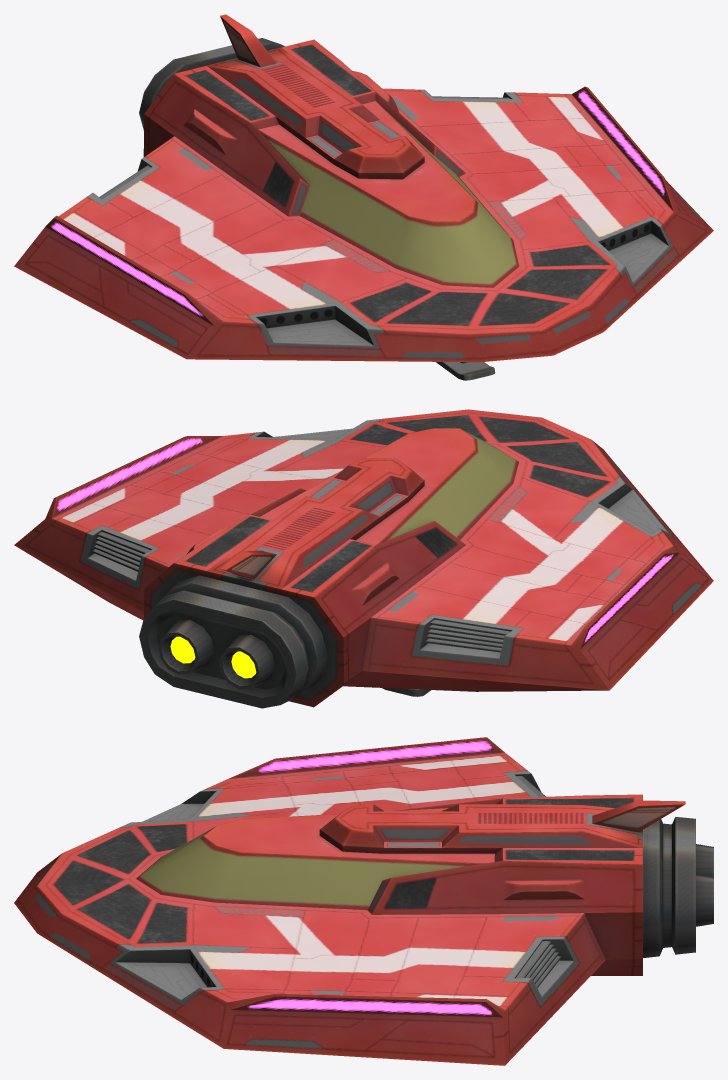
Rendered from spaceship2.gltf.
The picture shows the model from 3 angles, top to bottom: view 1: azimuth 30°, elevation 25°; view 2: azimuth 150°, elevation 25°; view 3: azimuth 270°, elevation 25°; orthographic projection.
Parts seen in each view (by area): view 1: SpaceOne; view 2: SpaceOne; view 3: SpaceOne.
Boxes of the visible parts, <box> form: SpaceOne: <box>14,14,713,380</box>; SpaceOne: <box>14,409,713,708</box>; SpaceOne: <box>14,737,713,1065</box>.
Bounding box in the file's own units: 1.76 × 0.4977 × 1.76.
1 material, 1 textured.
